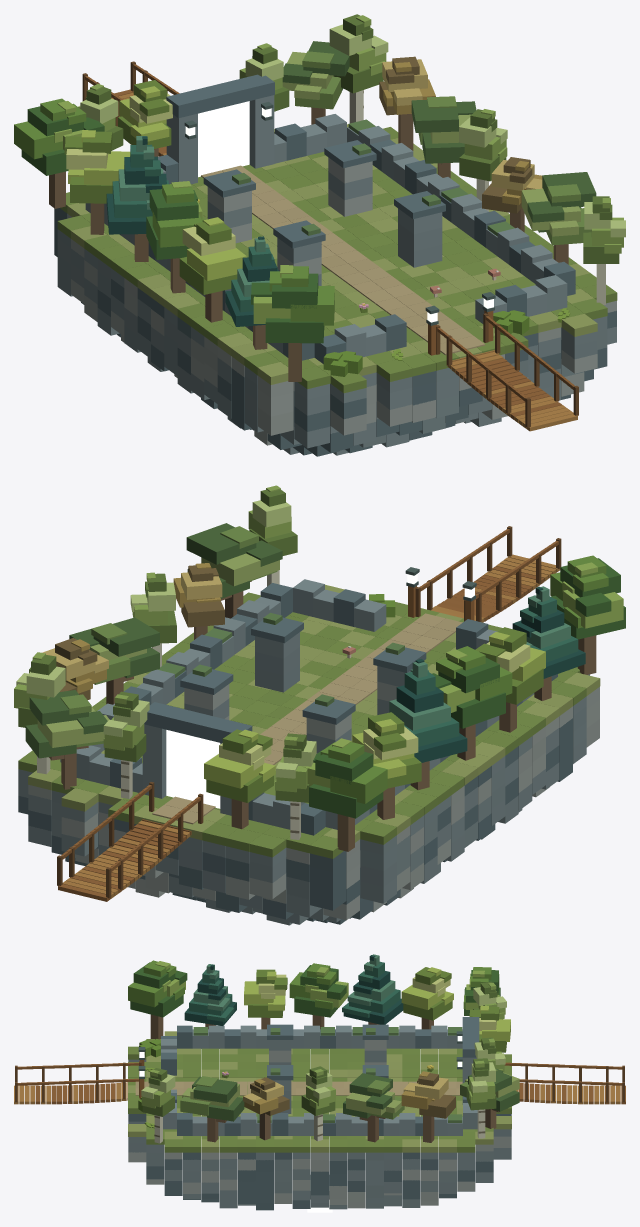
File: room_pillars_purified.glb
3 views of the same model, one above another, from view 1: azimuth 30°, elevation 25°; view 2: azimuth 150°, elevation 25°; view 3: azimuth 270°, elevation 25° (orthographic). The views are drawn at different scales.
Parts seen in each view (by area): view 1: room_pillars_blocks, tree0_(0, 0).001, tree0_(0, 0).003, tree3_(0, 0).001, tree4_(0, 0).001, tree2_(0, 0).002, tree4_(0, 0).002, tree0_(0, 0).002, tree3_(0, 0).003, tree1_(0, 0).003, tree3_(0, 0).002, tree5_(0, 0).002 (+9 smaller); view 2: room_pillars_blocks, tree0_(0, 0).003, tree0_(0, 0).001, tree0_(0, 0).002, tree2_(0, 0).002, tree3_(0, 0).003, tree3_(0, 0).001, tree4_(0, 0).003, tree3_(0, 0).002, tree2_(0, 0).001, tree4_(0, 0).002, tree4_(0, 0).001 (+7 smaller); view 3: room_pillars_blocks, tree0_(0, 0).001, tree2_(0, 0).002, tree0_(0, 0).002, tree3_(0, 0).001, tree3_(0, 0).002, tree4_(0, 0).002, tree5_(0, 0).002, tree2_(0, 0).001, tree4_(0, 0).001, tree1_(0, 0).003, tree5_(0, 0).001 (+7 smaller).
Boxes of the visible parts, x1=… form: room_pillars_blocks: x1=54, y1=61, x2=617, y2=456; tree0_(0, 0).001: x1=251, y1=265, x2=334, y2=381; tree0_(0, 0).003: x1=14, y1=98, x2=104, y2=208; tree3_(0, 0).001: x1=521, y1=172, x2=596, y2=264; tree4_(0, 0).001: x1=179, y1=217, x2=246, y2=322; tree2_(0, 0).002: x1=106, y1=136, x2=168, y2=261; tree4_(0, 0).002: x1=64, y1=130, x2=130, y2=234; tree0_(0, 0).002: x1=146, y1=181, x2=203, y2=293; tree3_(0, 0).003: x1=282, y1=41, x2=349, y2=124; tree1_(0, 0).003: x1=329, y1=14, x2=388, y2=123; tree3_(0, 0).002: x1=411, y1=96, x2=476, y2=178; tree5_(0, 0).002: x1=379, y1=56, x2=435, y2=150; room_pillars_blocks: x1=18, y1=526, x2=600, y2=925; tree0_(0, 0).003: x1=303, y1=738, x2=387, y2=851; tree0_(0, 0).001: x1=550, y1=555, x2=625, y2=674; tree0_(0, 0).002: x1=432, y1=646, x2=512, y2=760; tree2_(0, 0).002: x1=389, y1=659, x2=467, y2=790; tree3_(0, 0).003: x1=25, y1=690, x2=109, y2=789; tree3_(0, 0).001: x1=186, y1=523, x2=282, y2=618; tree4_(0, 0).003: x1=204, y1=729, x2=275, y2=829; tree3_(0, 0).002: x1=69, y1=617, x2=159, y2=704; tree2_(0, 0).001: x1=512, y1=586, x2=585, y2=700; tree4_(0, 0).002: x1=352, y1=712, x2=421, y2=819; tree4_(0, 0).001: x1=475, y1=627, x2=545, y2=732; room_pillars_blocks: x1=14, y1=1017, x2=625, y2=1212; tree0_(0, 0).001: x1=128, y1=960, x2=187, y2=1039; tree2_(0, 0).002: x1=342, y1=954, x2=403, y2=1024; tree0_(0, 0).002: x1=289, y1=963, x2=348, y2=1029; tree3_(0, 0).001: x1=180, y1=1076, x2=244, y2=1142; tree3_(0, 0).002: x1=343, y1=1073, x2=404, y2=1142; tree4_(0, 0).002: x1=401, y1=967, x2=453, y2=1029; tree5_(0, 0).002: x1=401, y1=1071, x2=455, y2=1142; tree2_(0, 0).001: x1=184, y1=964, x2=236, y2=1029; tree4_(0, 0).001: x1=244, y1=969, x2=287, y2=1029; tree1_(0, 0).003: x1=466, y1=1058, x2=496, y2=1138; tree5_(0, 0).001: x1=243, y1=1077, x2=289, y2=1140.
Size of the model in its own units: 19.1 by 14.02 by 38.5.
